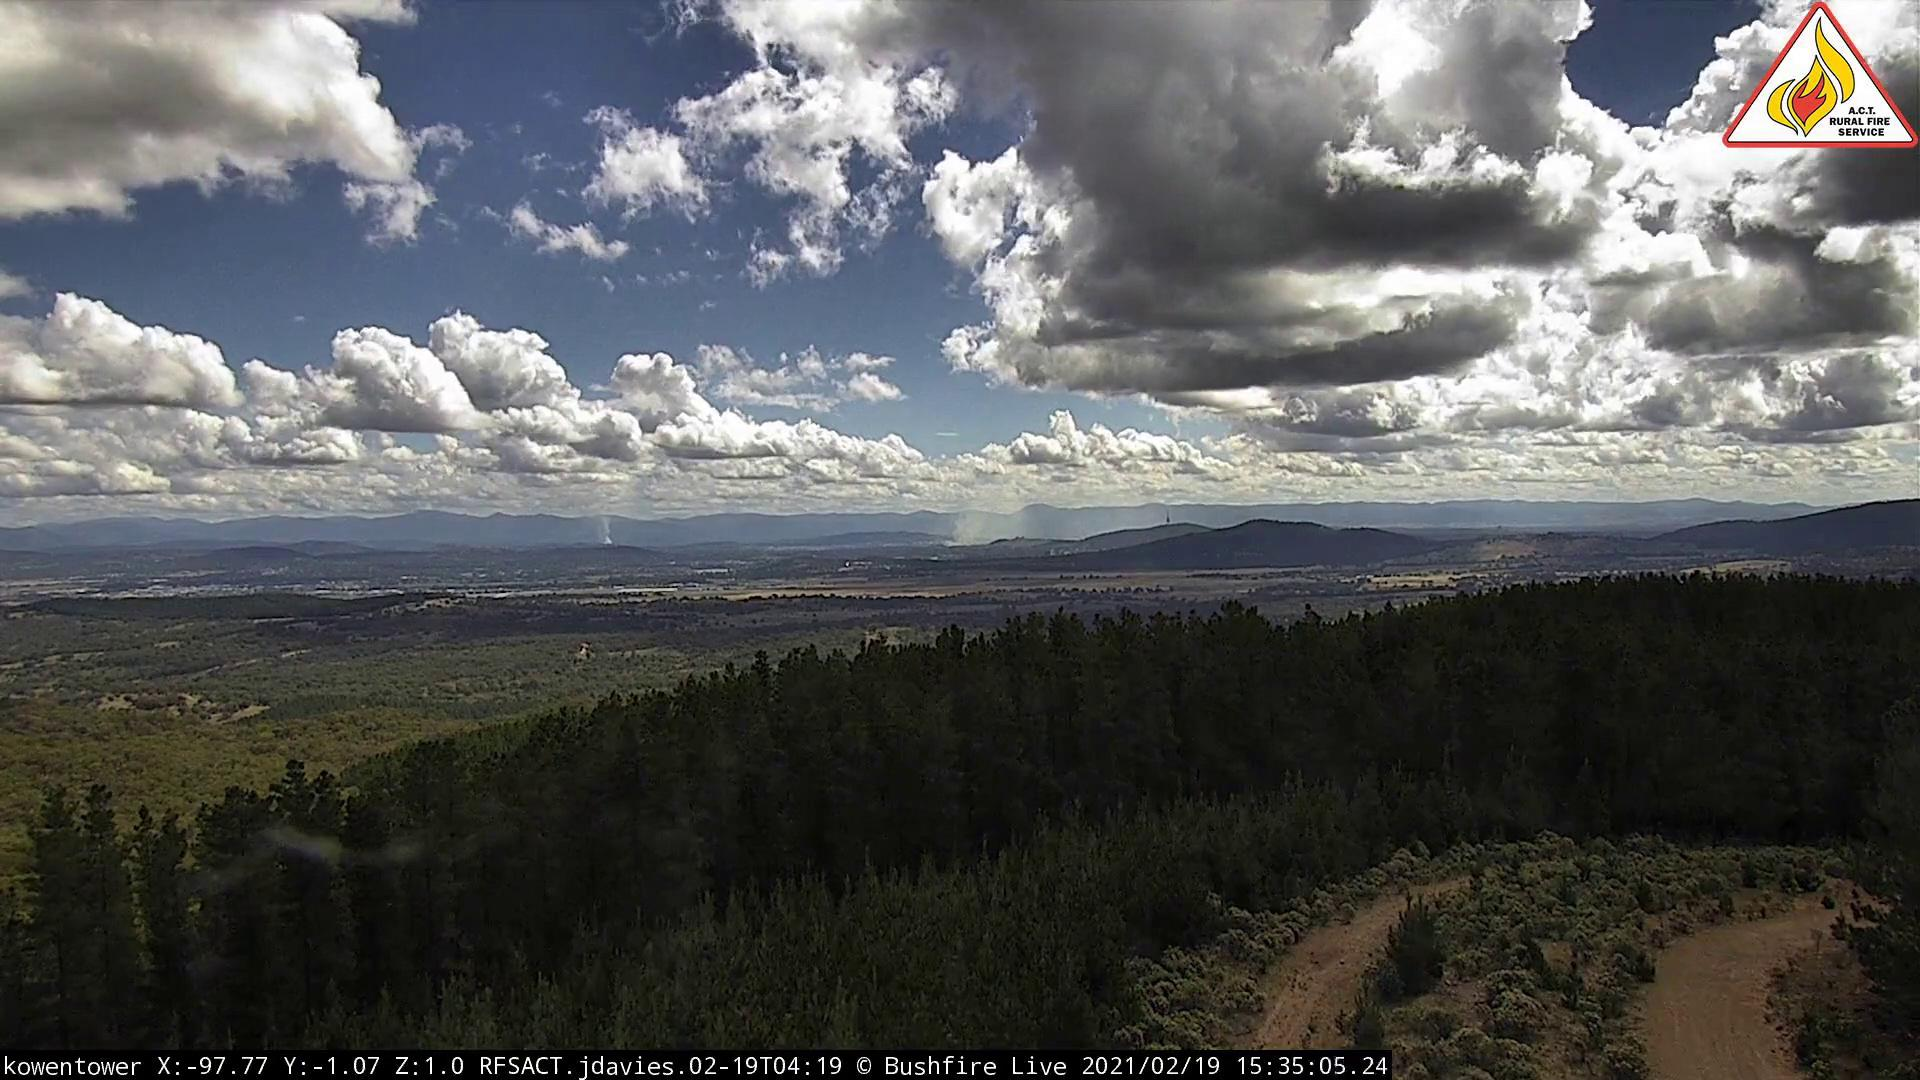instance_salient_object: (949, 492, 1043, 555), (600, 525, 620, 553)
